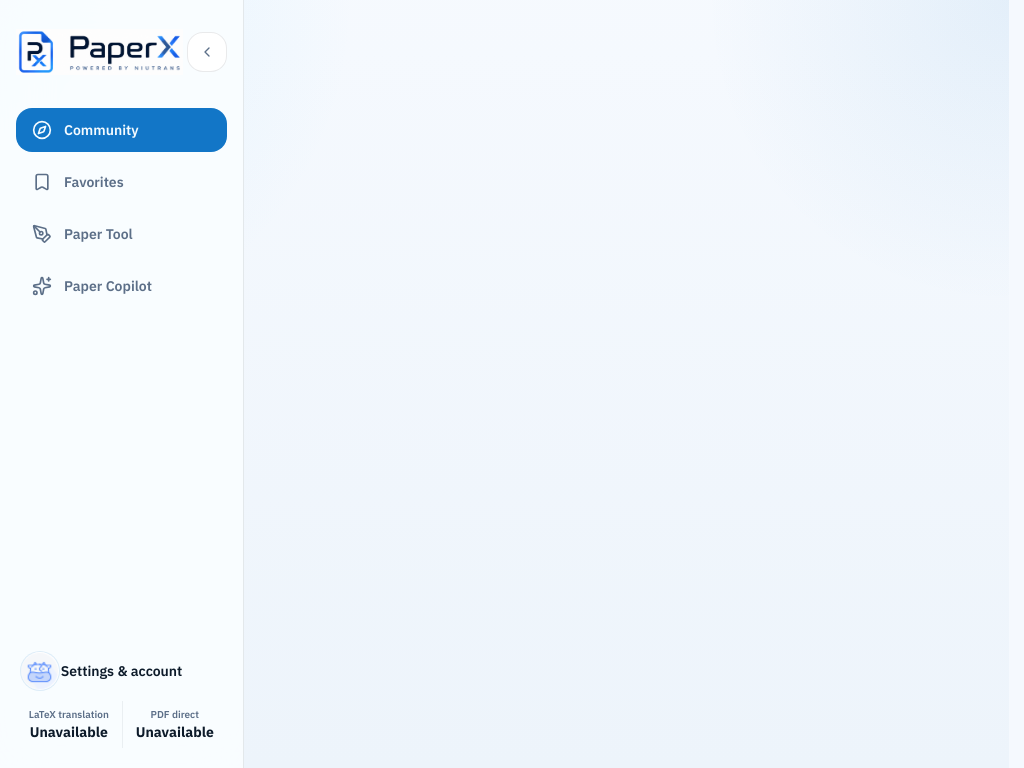
Test: AppSidebar community shell › surfaces admin links inside the account menu instead of the main navigation
The width and height of the screenshot is (1024, 768).
Expected: the link "Paper Copilot" is shown, [32,276,152,296]
Expected: the link "Admin curation" is not shown
Click the button with aria-label "admin@example.com": click(122, 671) [16,647,227,695]
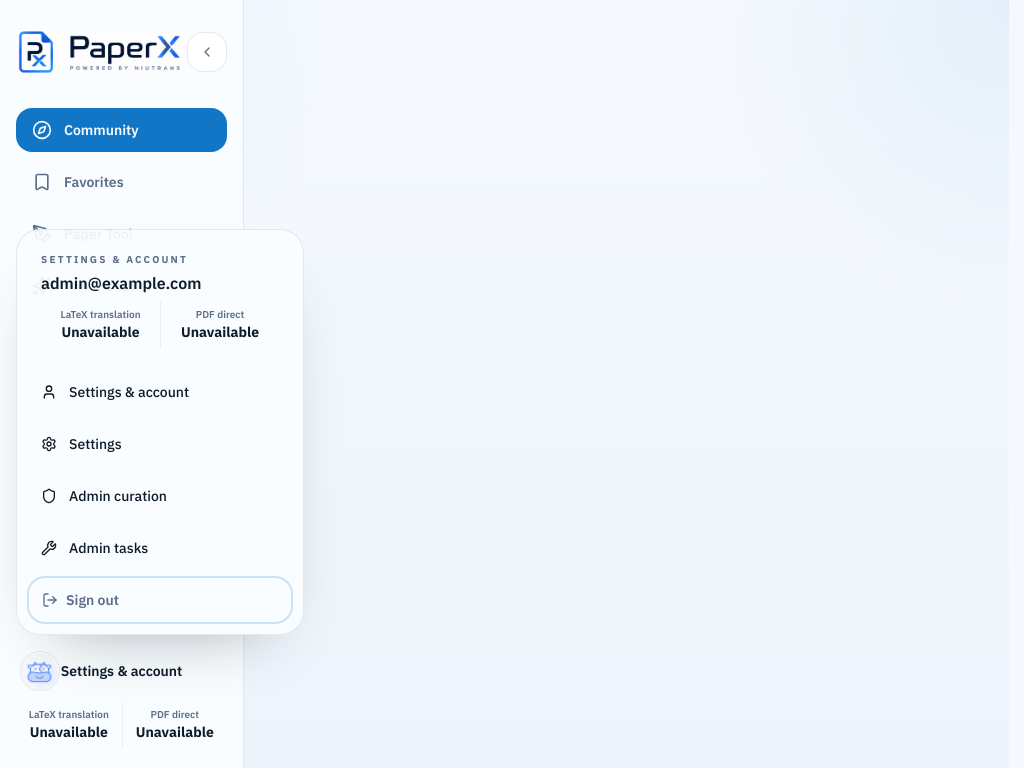
Result: the link "Admin curation" is shown at [41,487,167,505]
Result: the link "Admin tasks" is shown at [41,539,148,557]
